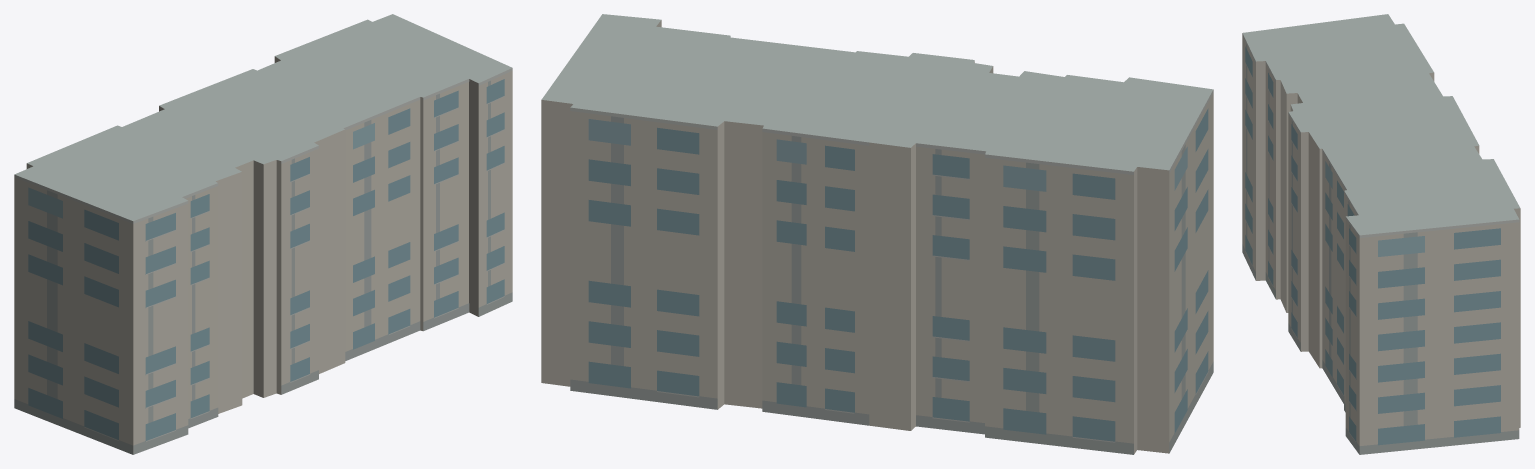
The model's file is survey-upis-32860745.glb.
The picture shows the model from 3 angles, left to right: view 1: azimuth 30°, elevation 25°; view 2: azimuth 150°, elevation 25°; view 3: azimuth 270°, elevation 25°; orthographic projection. The views are drawn at different scales.
Visible parts, largest first — view 1: survey-upis-32860745.tmp; view 2: survey-upis-32860745.tmp; view 3: survey-upis-32860745.tmp.
Boxes of the visible parts, x1,y1,x2,y2 form: survey-upis-32860745.tmp: (14, 14, 512, 454); survey-upis-32860745.tmp: (541, 14, 1213, 454); survey-upis-32860745.tmp: (1242, 14, 1520, 454).
Bounding box in the file's own units: 43.49 × 20.1 × 23.09.
